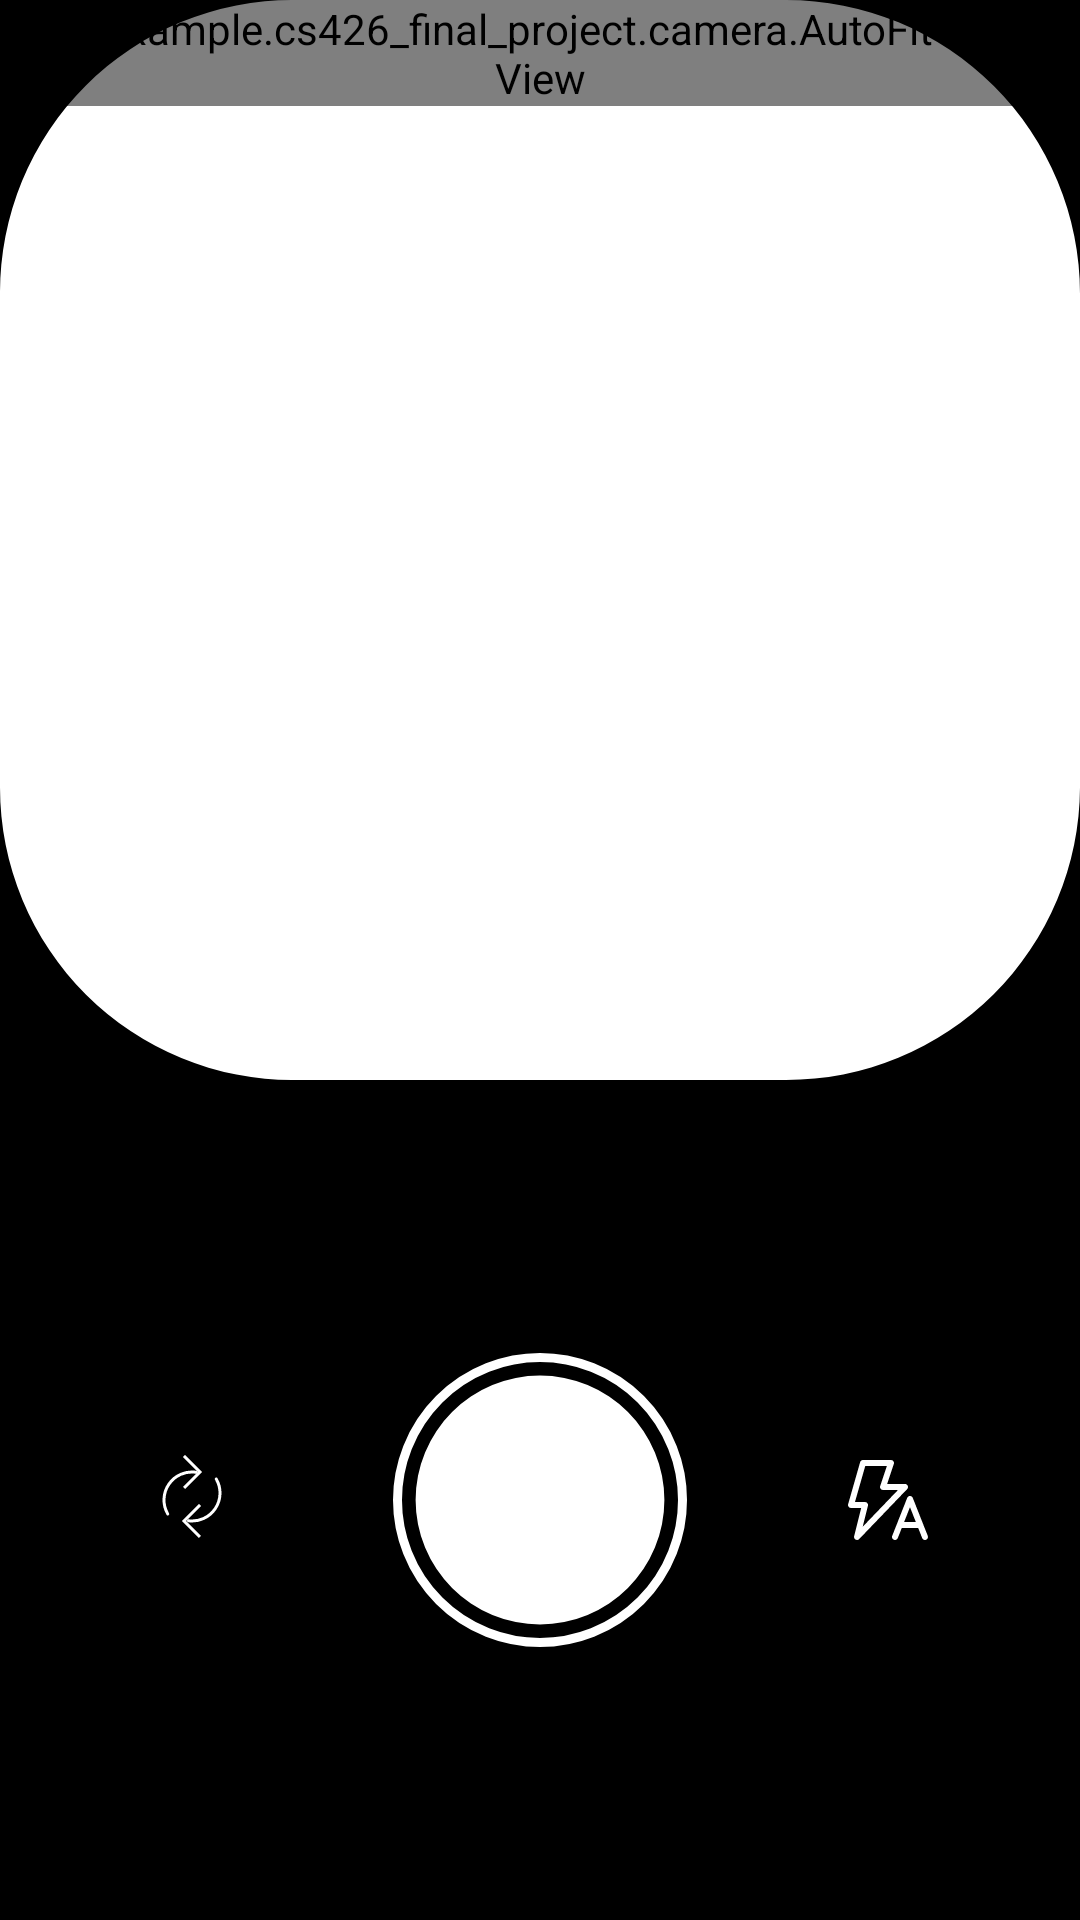

Icon click points for this 1080w x 1920h phone screenshot, format (x=x, y=y):
Change flash mode: (x=888, y=1500)
Take photo icon: (x=540, y=1500)
